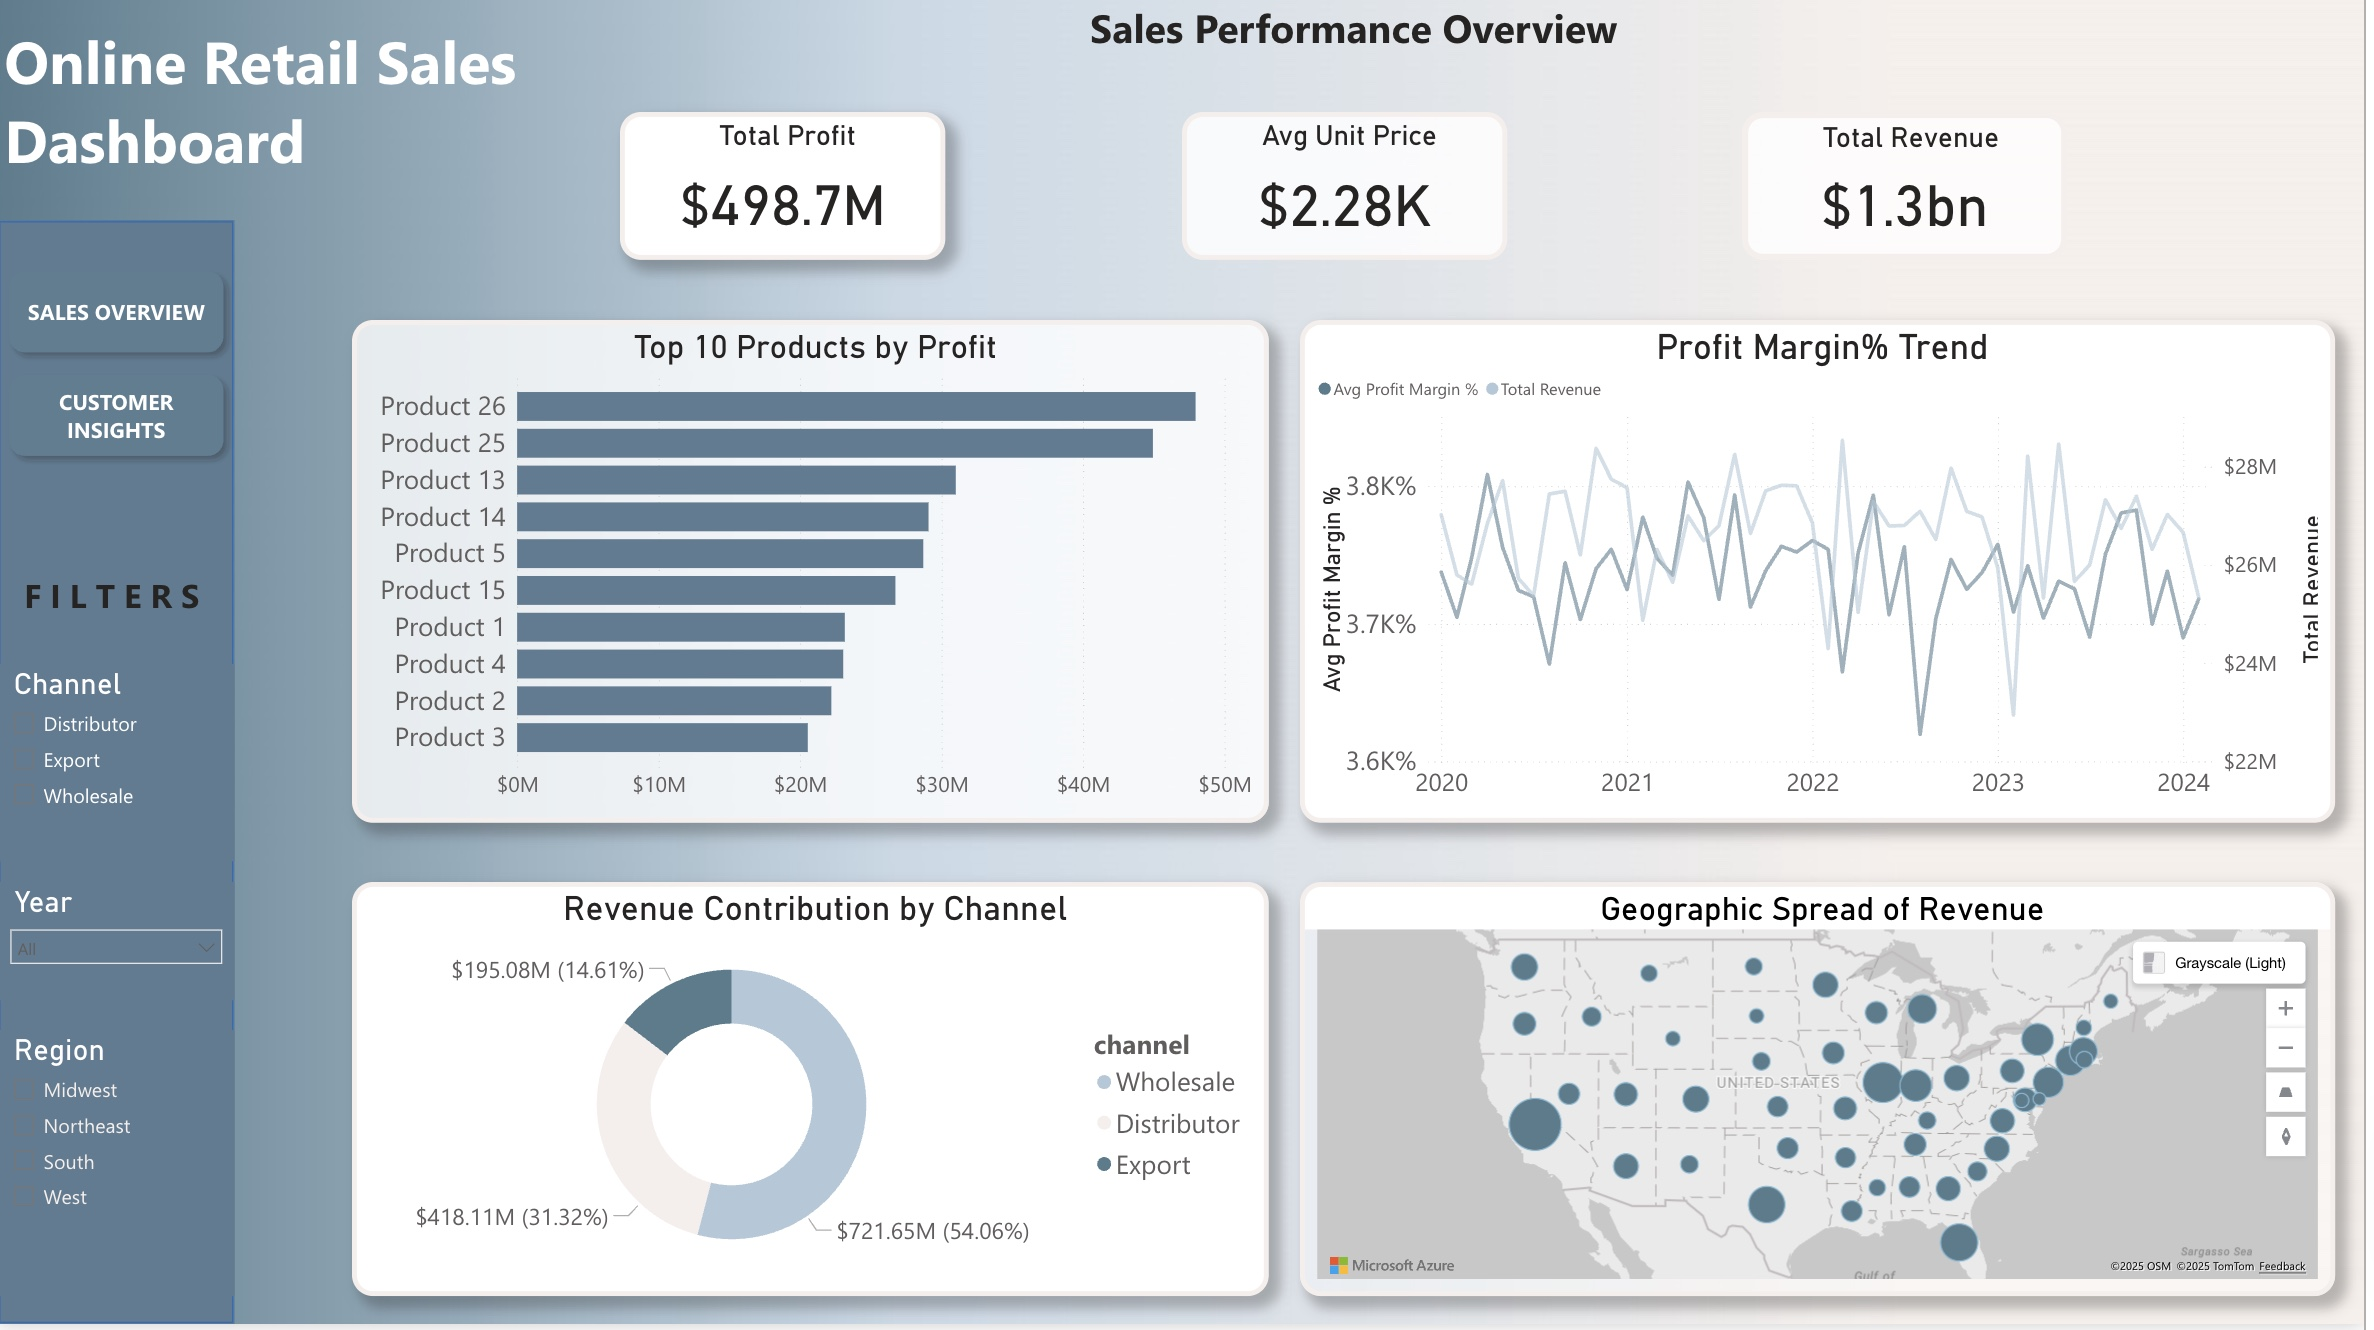

The page's visual inventory and layout, read from the dashboard file:
{"tool":"powerbi","page":{"name":"SALES OVERVIEW","canvas":[1920,1080],"ordinal":0},"visuals":[{"type":"actionButton","box":[1808,16,96,64],"z":0},{"type":"shape","box":[0,184,192,896],"z":1000},{"type":"slicer","fields":{"Values":["Sales.Year"]},"box":[5,736,176,96],"z":2000},{"type":"slicer","fields":{"Values":["Sales.us_region"]},"box":[5,864,176,192],"z":3000},{"type":"slicer","fields":{"Values":["Sales.channel"]},"box":[6,544,176,176],"z":4000},{"type":"card","title":"Total Profit","fields":{"Values":["Measures -.Total Profit"]},"box":[504,96,264,120],"z":5000},{"type":"card","title":"Total Revenue","fields":{"Values":["Measures -.Total Revenue"]},"box":[1416,96,264,120],"z":6000},{"type":"card","title":"Avg Unit Price","fields":{"Values":["Measures -.Avg Unit Price"]},"box":[960,96,264,120],"z":7000},{"type":"lineChart","title":"Profit Margin% Trend","fields":{"Y":["Measures -.Avg Margin %"],"Category":["Sales.order_date.Variation.Date Hierarchy.Year","Sales.order_date.Variation.Date Hierarchy.Month"],"Y2":["Measures -.Total Revenue"]},"box":[1056,264,840,408],"z":8000},{"type":"clusteredBarChart","title":"Top 10 Products by Profit","fields":{"Category":["Sales.product_name"],"Y":["Measures -.Total Profit"]},"box":[288,264,744,408],"z":9000},{"type":"donutChart","title":"Revenue Contribution by Channel","fields":{"Category":["Sales.channel"],"Y":["Measures -.Total Revenue"]},"box":[288,720,744,336],"z":10000},{"type":"azureMap","title":"Geographic Spread of Revenue","fields":{"Category":["Sales.state_name"],"Size":["Measures -.Total Revenue"]},"box":[1056,720,840,336],"z":11000},{"type":"textbox","box":[456,0,1200,72],"z":12000},{"type":"pageNavigator","box":[0,272,192,160],"z":13000},{"type":"textbox","box":[16,464,160,80],"z":14000},{"type":"textbox","box":[0,16,576,176],"z":15000},{"type":"textbox","box":[16,208,1008,64],"z":16000}]}

Visuals, with their boxes in screenshot pixels (x1, y1, x2, y2), scaled from the page's 1920x1080 canvas onto the 2374x1330 screenshot:
actionButton: 2236,20,2354,99
shape: 0,227,237,1329
slicer - Sales.Year: 6,906,224,1025
slicer - Sales.us_region: 6,1064,224,1300
slicer - Sales.channel: 7,670,225,887
"Total Profit" card: 623,118,950,266
"Total Revenue" card: 1751,118,2077,266
"Avg Unit Price" card: 1187,118,1513,266
"Profit Margin% Trend" lineChart: 1306,325,2344,828
"Top 10 Products by Profit" clusteredBarChart: 356,325,1276,828
"Revenue Contribution by Channel" donutChart: 356,887,1276,1300
"Geographic Spread of Revenue" azureMap: 1306,887,2344,1300
textbox: 564,0,2048,89
pageNavigator: 0,335,237,532
textbox: 20,571,218,670
textbox: 0,20,712,236
textbox: 20,256,1266,335
